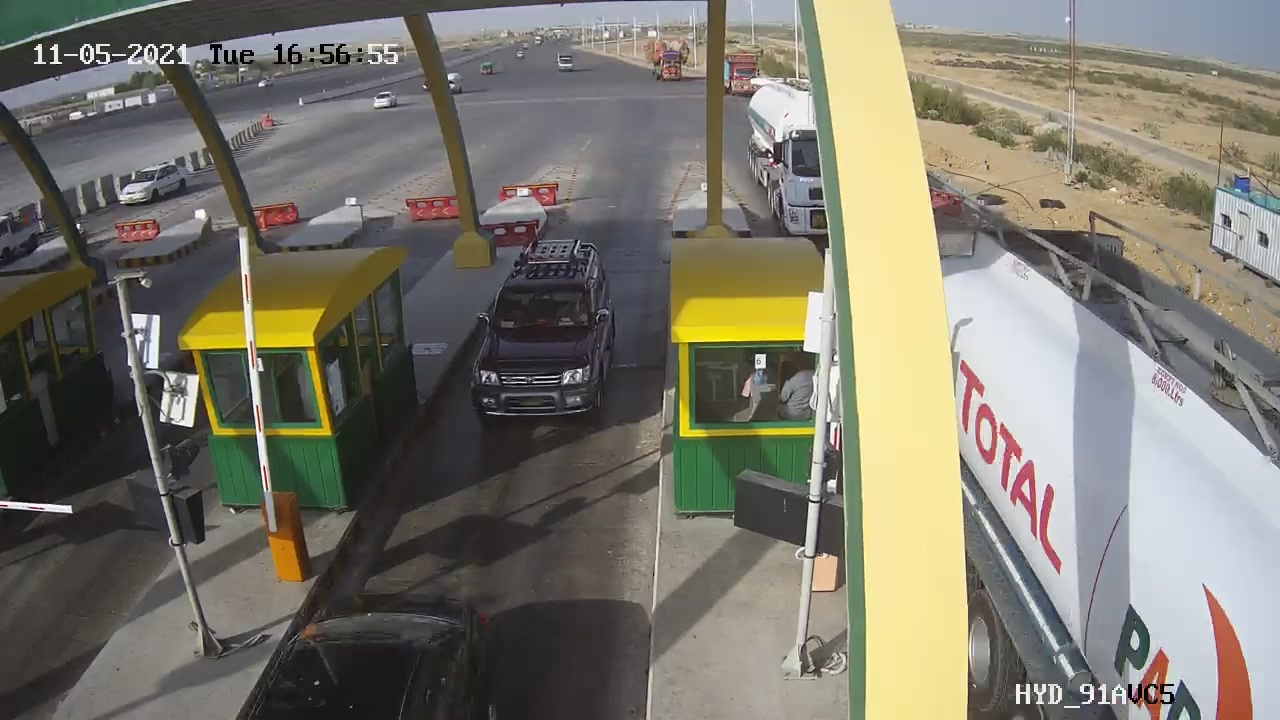F1: (453, 225, 632, 446)
